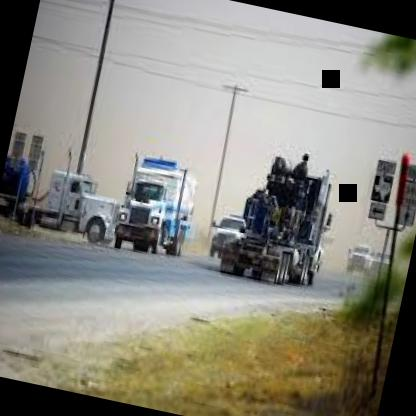car: (207, 136, 348, 314), (0, 117, 154, 255), (102, 138, 218, 271), (199, 190, 257, 272), (341, 235, 378, 282)
